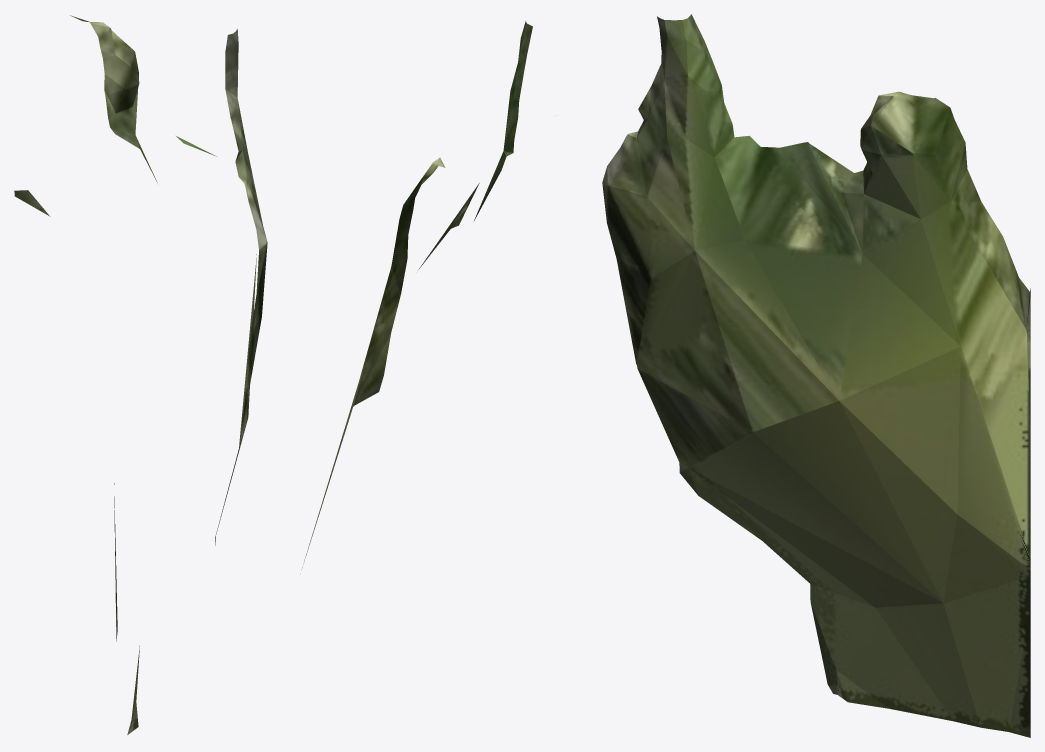
The picture shows the model from 3 angles, left to right: view 1: azimuth 30°, elevation 25°; view 2: azimuth 150°, elevation 25°; view 3: azimuth 270°, elevation 25°; orthographic projection. The views are drawn at different scales.
Bounding box in the file's own units: 0.8214 × 5.9 × 3.37.
Materials: 1 (1 with a texture image).
